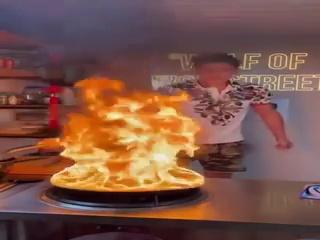Fire: (34, 57, 206, 194)
